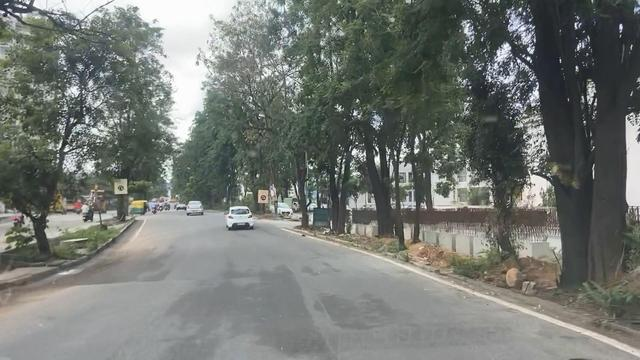LMV: (227, 207, 252, 229), (188, 201, 204, 215)
RoadDamages: (164, 299, 215, 336), (225, 315, 269, 356), (253, 270, 306, 293), (101, 250, 126, 290), (138, 263, 176, 287), (69, 262, 94, 298), (361, 295, 395, 318), (298, 263, 346, 279), (330, 317, 361, 340), (309, 290, 338, 314), (145, 245, 179, 261)
